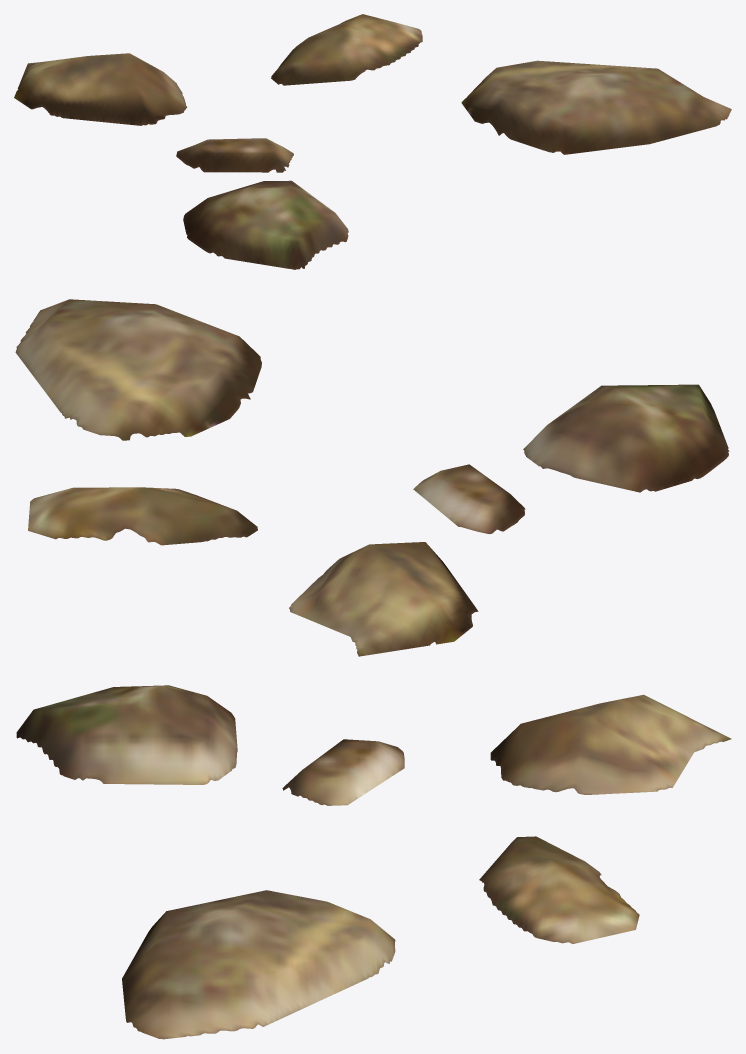
Rendered from stone0_a.FBX.
3 views of the same model, one above another, from view 1: azimuth 30°, elevation 25°; view 2: azimuth 150°, elevation 25°; view 3: azimuth 270°, elevation 25° (orthographic). The views are drawn at different scales.
Visible parts, largest first — view 1: stone_0; view 2: stone_0; view 3: stone_0.
Part boxes in pixels (x1,y1,x2,y2): stone_0: (14,14,731,269); stone_0: (15,299,729,656); stone_0: (16,685,731,1039).
Bounding box in the file's own units: 81.19 × 5.93 × 72.83.
